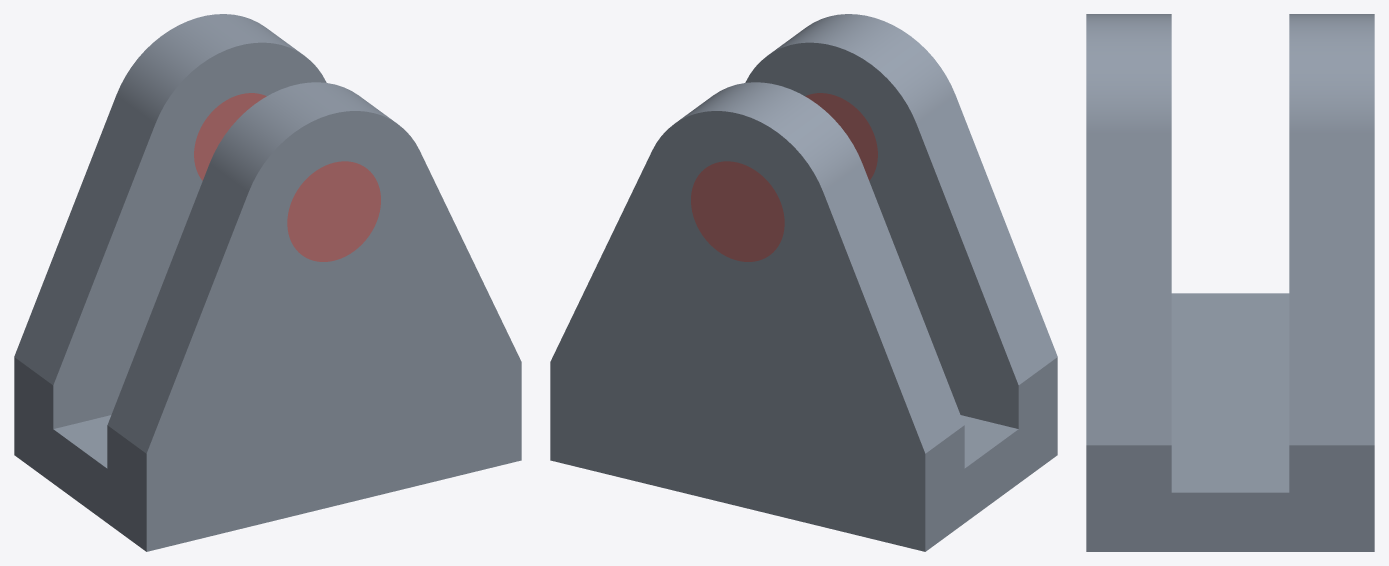
File: step_06.glb
3 renders of one model, left to right at view 1: azimuth 30°, elevation 25°; view 2: azimuth 150°, elevation 25°; view 3: azimuth 270°, elevation 25°, orthographic. The views are drawn at different scales.
Visible parts, largest first — view 1: part__fork bracket, removed__fork bracket; view 2: part__fork bracket, removed__fork bracket; view 3: part__fork bracket.
Boxes of the visible parts, bbox=[...] form: part__fork bracket: bbox=[14, 14, 521, 551]; removed__fork bracket: bbox=[194, 93, 380, 261]; part__fork bracket: bbox=[550, 14, 1057, 551]; removed__fork bracket: bbox=[691, 93, 877, 261]; part__fork bracket: bbox=[1086, 14, 1374, 551].
Size of the model in its own units: 72 by 71.98 by 44.
